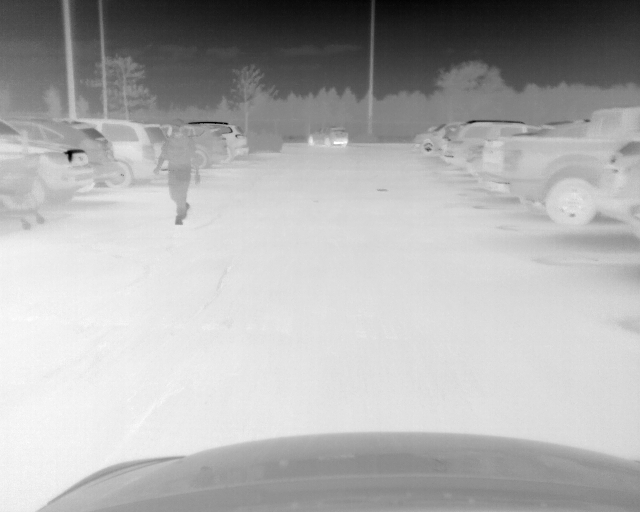car: (477, 107, 640, 226), (1, 123, 95, 214), (19, 119, 117, 201), (76, 119, 168, 186), (444, 122, 551, 171), (598, 137, 640, 241), (190, 120, 250, 167), (409, 118, 464, 156), (183, 125, 228, 171), (306, 127, 350, 149)
people: (155, 118, 201, 225)
